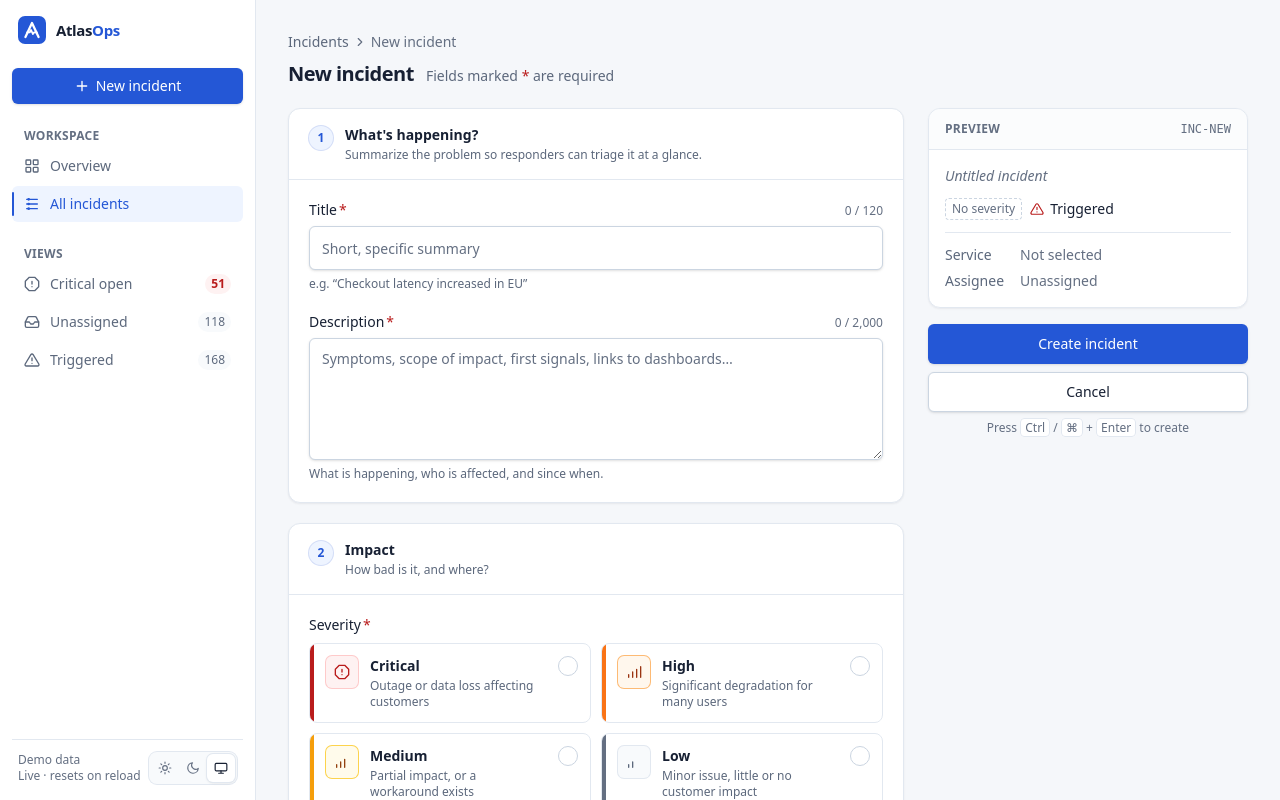
Test: Accessibility sweep › the discard-changes dialog has no violations
Type "Draft" into the field labelled "Title*". click: (596, 248)
box: x1=309 y1=226 x2=883 y2=270
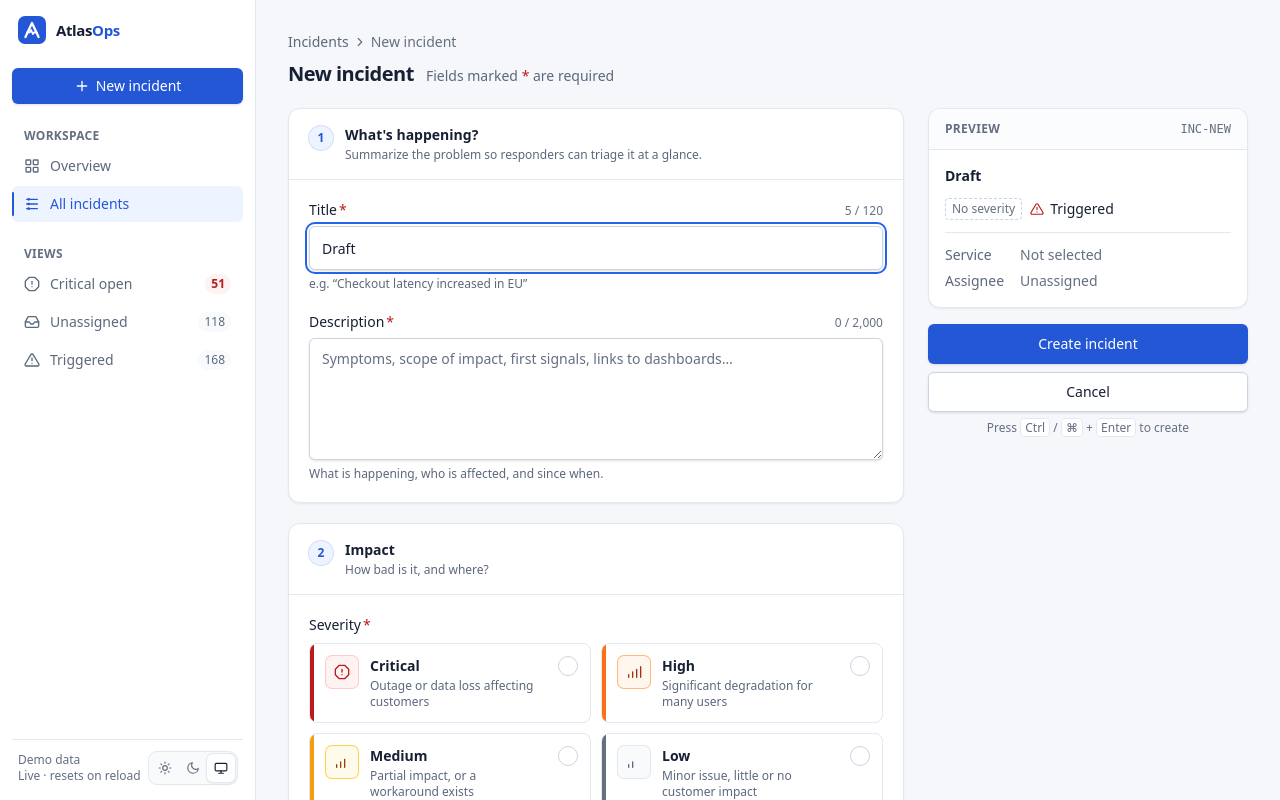
Click the link "Cancel". click: (1088, 392)
box: x1=928 y1=372 x2=1248 y2=412
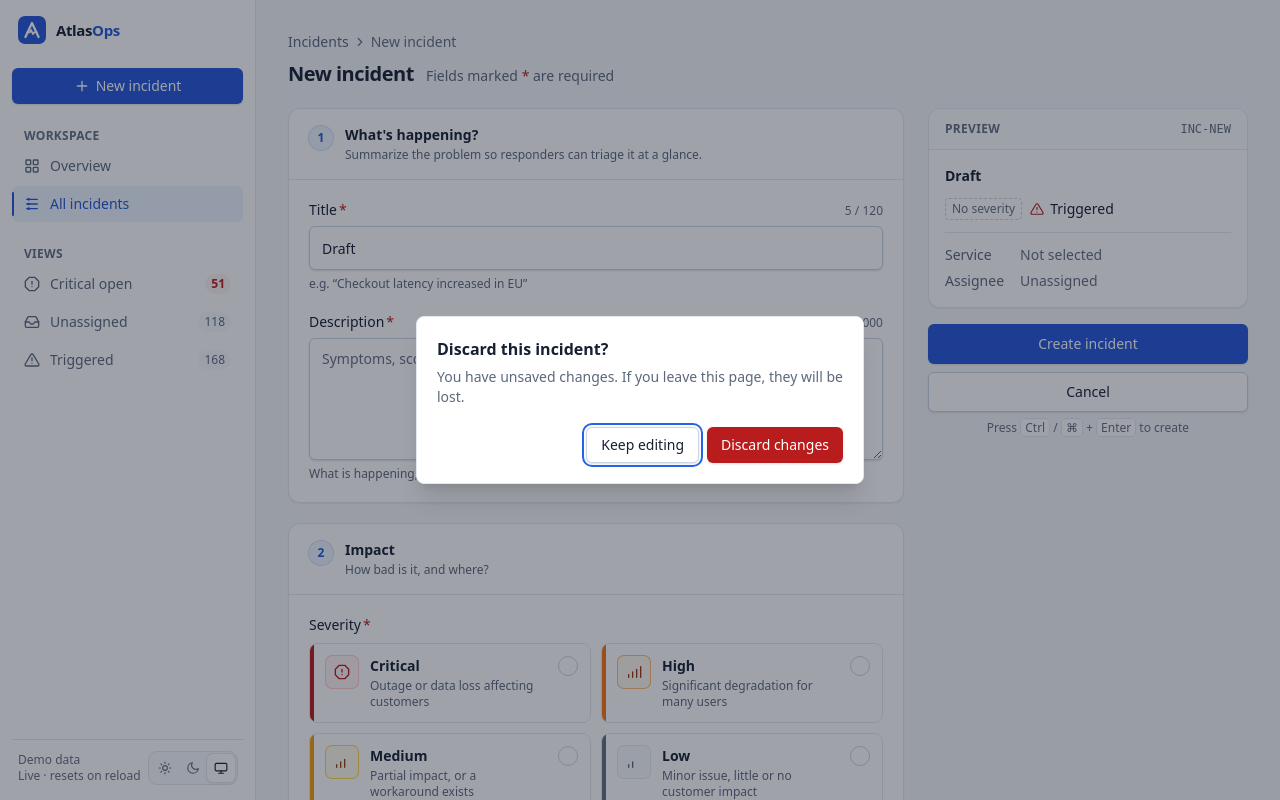
Result: the dialog is shown at x1=416 y1=316 x2=864 y2=484
